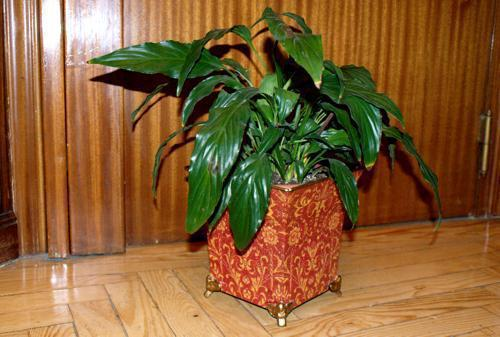Matera: (88, 11, 448, 326)
